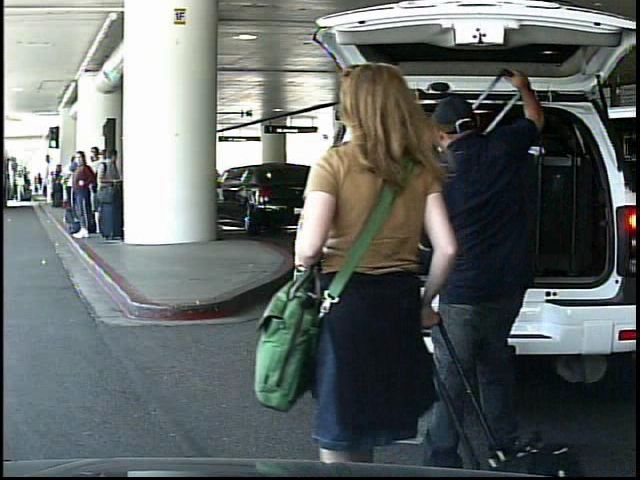person: (284, 49, 475, 473), (387, 61, 551, 455), (16, 174, 27, 205), (35, 172, 46, 199)
